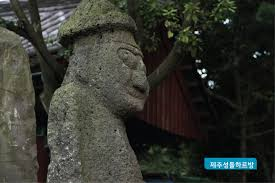Stone Statue: (39, 1, 161, 183)
